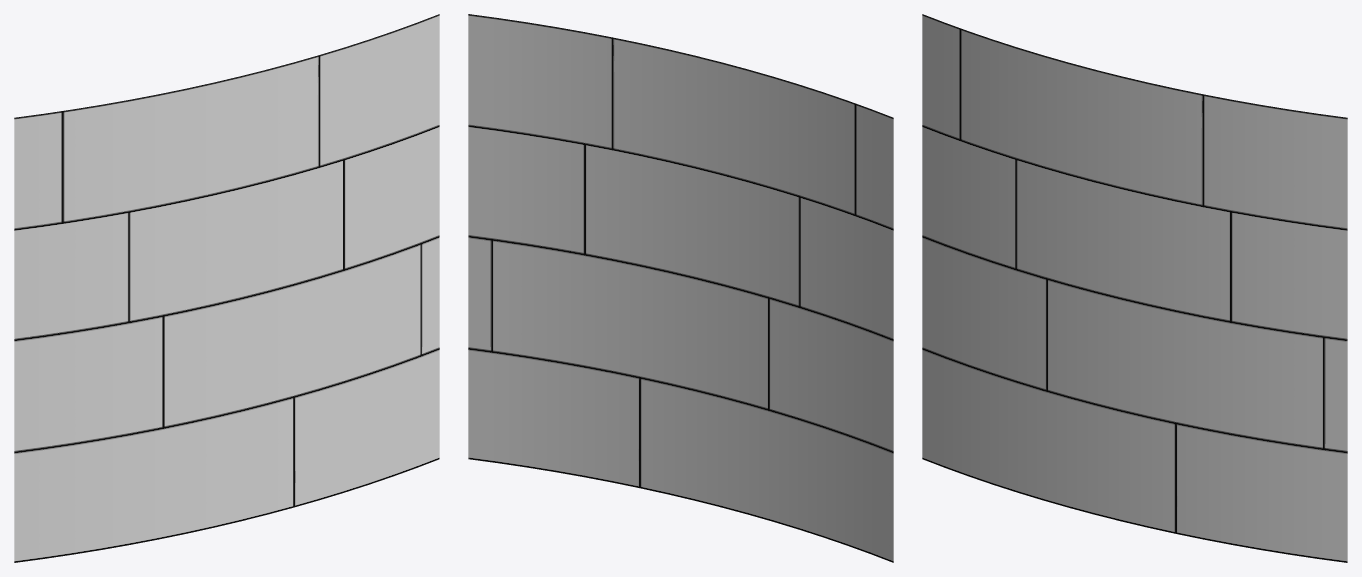
File: WallRound350x350x20cm.FBX
3 renders of one model, left to right at view 1: azimuth 30°, elevation 25°; view 2: azimuth 150°, elevation 25°; view 3: azimuth 330°, elevation 25°, orthographic.
Parts seen in each view (by area): view 1: Wall350x350xR20cm; view 2: Wall350x350xR20cm; view 3: Wall350x350xR20cm.
Boxes of the visible parts, box(x1,y1,x2,y2) form: Wall350x350xR20cm: box(14, 14, 439, 562); Wall350x350xR20cm: box(468, 14, 893, 562); Wall350x350xR20cm: box(922, 14, 1347, 562).
Size of the model in its own units: 350 by 350 by 20.
